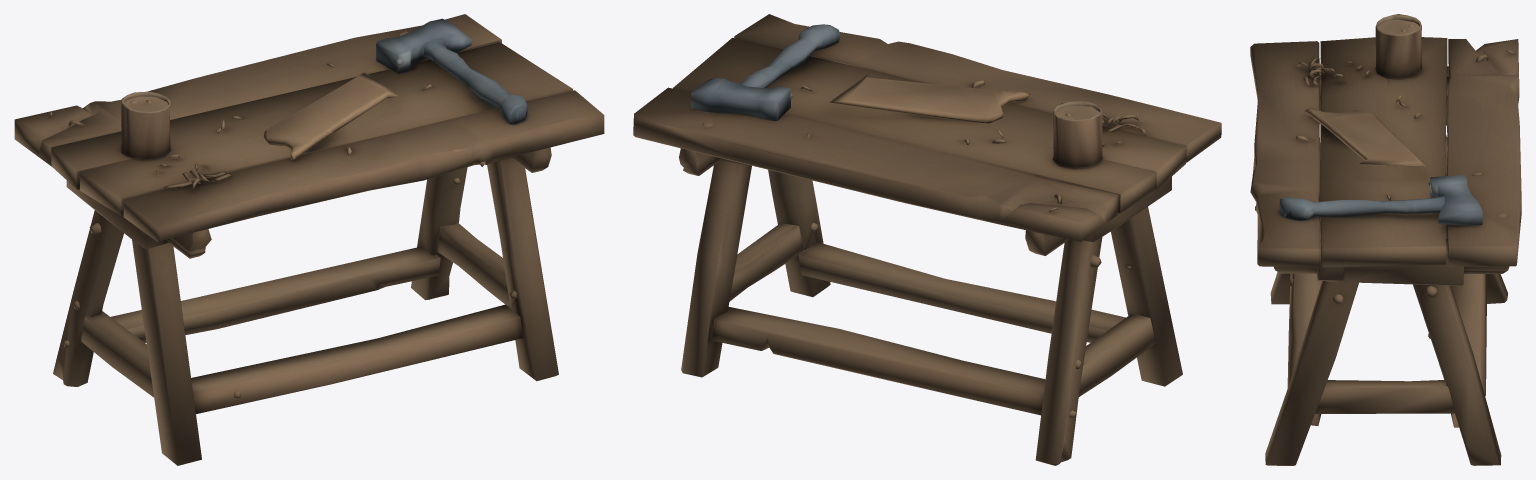
File: folding_workbench.glb
The picture shows the model from 3 angles, left to right: view 1: azimuth 30°, elevation 25°; view 2: azimuth 150°, elevation 25°; view 3: azimuth 270°, elevation 25°; orthographic projection. The views are drawn at different scales.
Visible parts, largest first — view 1: folding_workbench_LOD0; view 2: folding_workbench_LOD0; view 3: folding_workbench_LOD0.
Part boxes in pixels (x1=…): folding_workbench_LOD0: x1=14, y1=14, x2=604, y2=465; folding_workbench_LOD0: x1=633, y1=14, x2=1221, y2=465; folding_workbench_LOD0: x1=1250, y1=14, x2=1521, y2=465.
Size of what is drawn, in the model's own units: 1.6 by 1.03 by 0.8741.
Materials: 1 (1 with a texture image).
